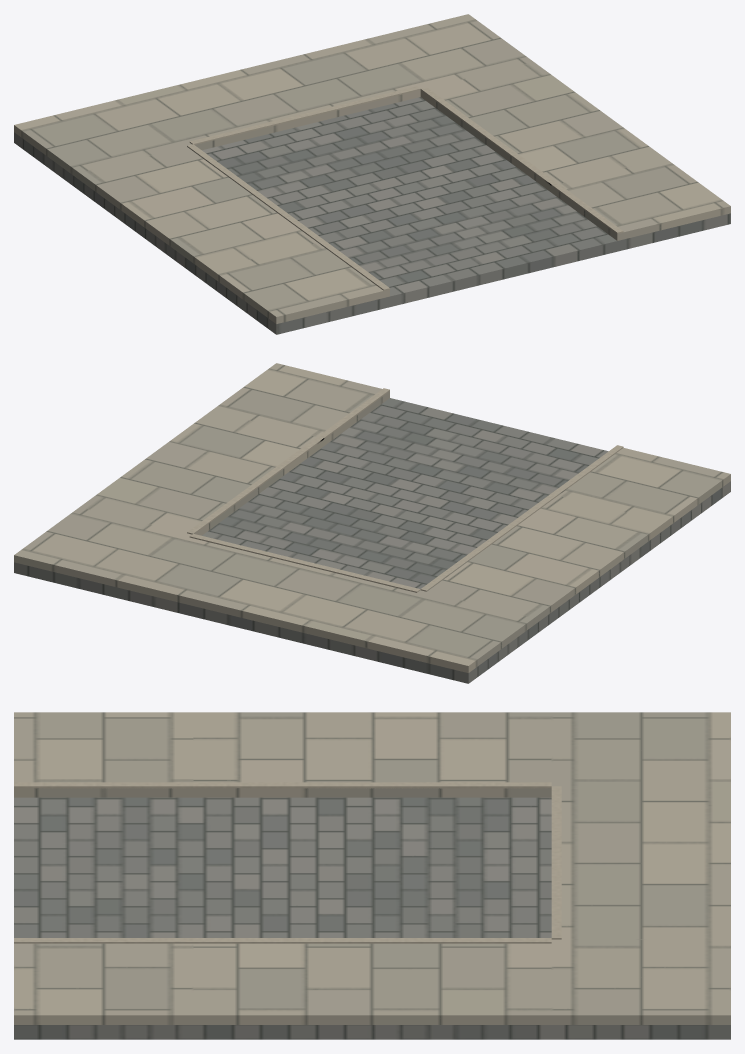
Rendered from Road_End.fbx.
The picture shows the model from 3 angles, top to bottom: view 1: azimuth 30°, elevation 25°; view 2: azimuth 150°, elevation 25°; view 3: azimuth 270°, elevation 25°; orthographic projection. The views are drawn at different scales.
Parts seen in each view (by area): view 1: Road_End.001; view 2: Road_End.001; view 3: Road_End.001.
Part boxes in pixels (bbox=[...]): Road_End.001: bbox=[14, 14, 730, 334]; Road_End.001: bbox=[14, 363, 730, 683]; Road_End.001: bbox=[14, 712, 730, 1039].
Size of the model in its own units: 8 by 0.3195 by 8.
